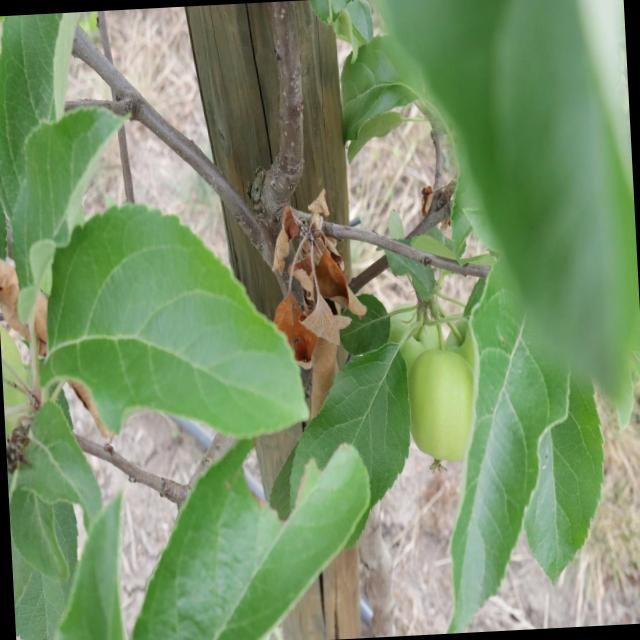-FireBlight-: (243, 188, 359, 404)
